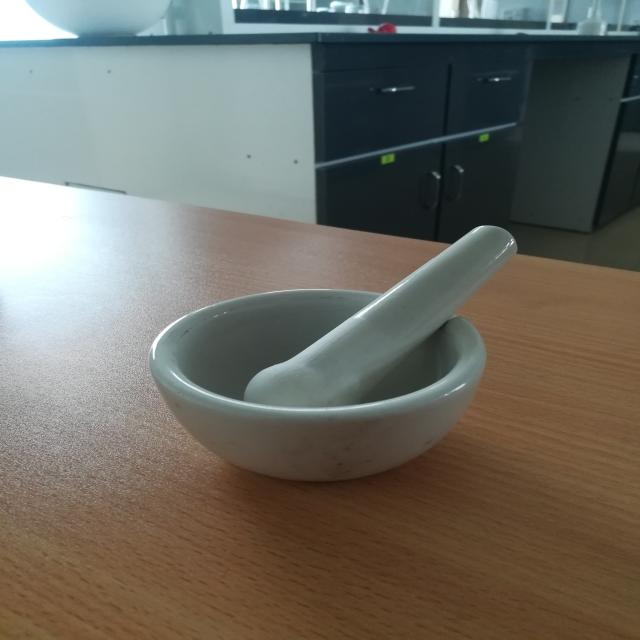Porcelain_Mortar Pestle: (123, 193, 562, 507)
